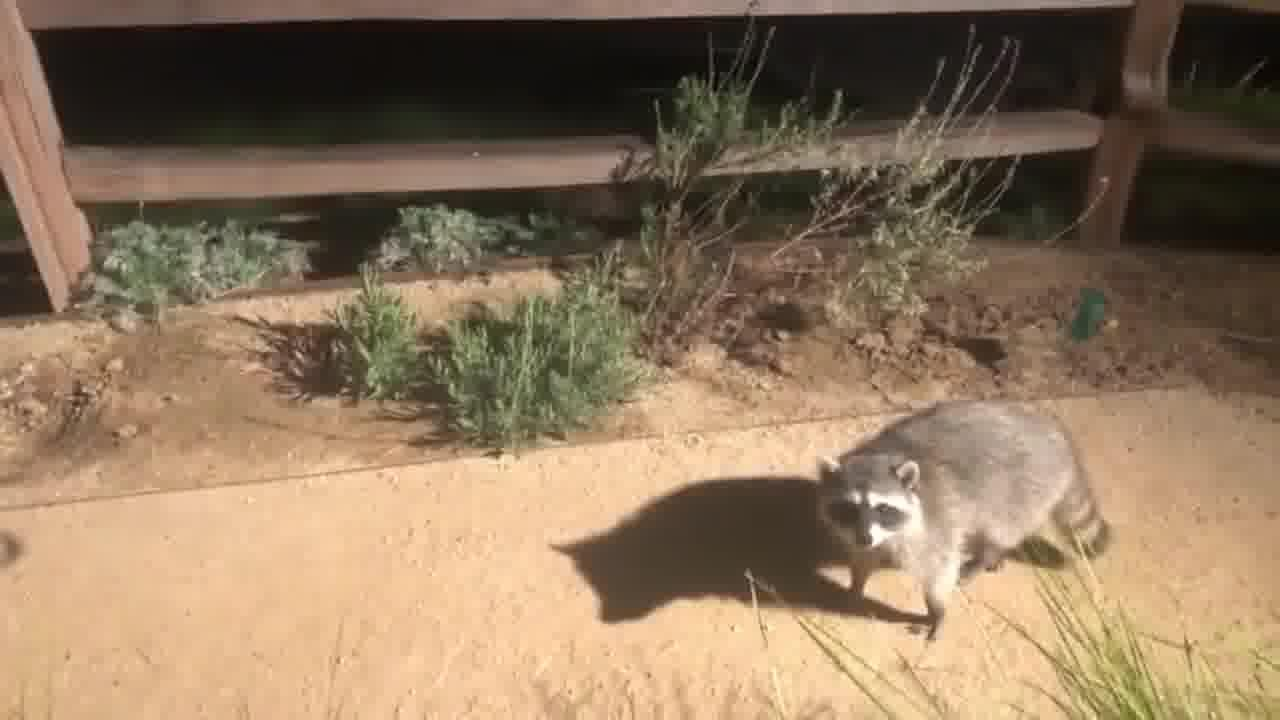raccoon: (802, 388, 1123, 648), (0, 516, 32, 589)
